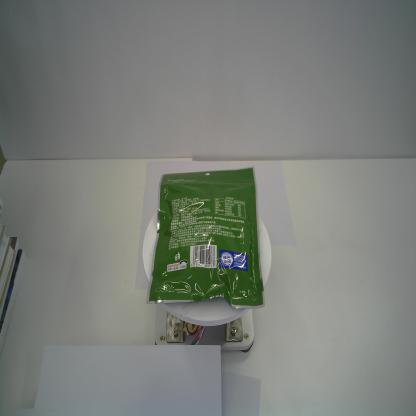Dried Fruit: (144, 164, 267, 311)
